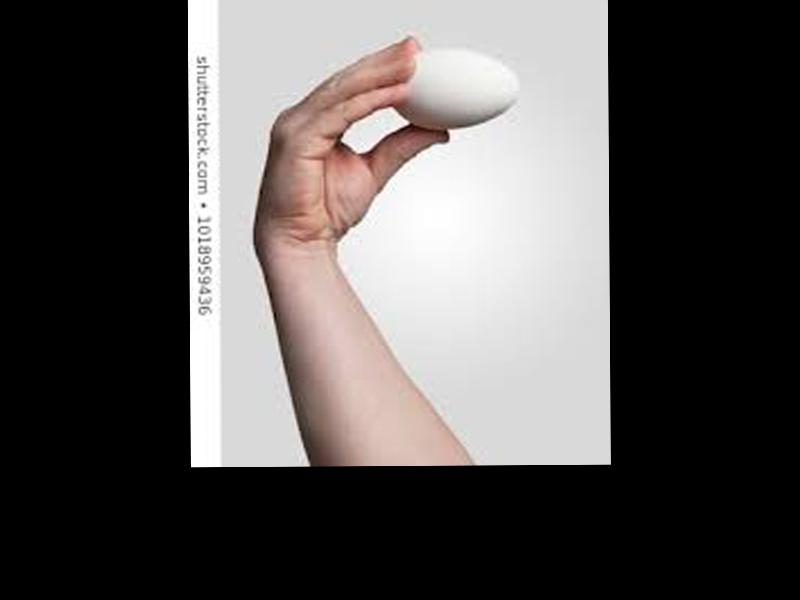Eggs: (391, 45, 522, 130)
